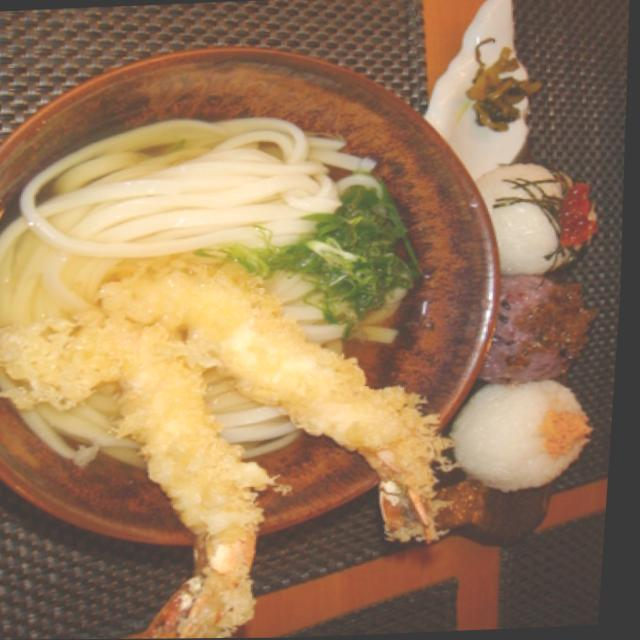面条主食: (0, 106, 474, 640)
